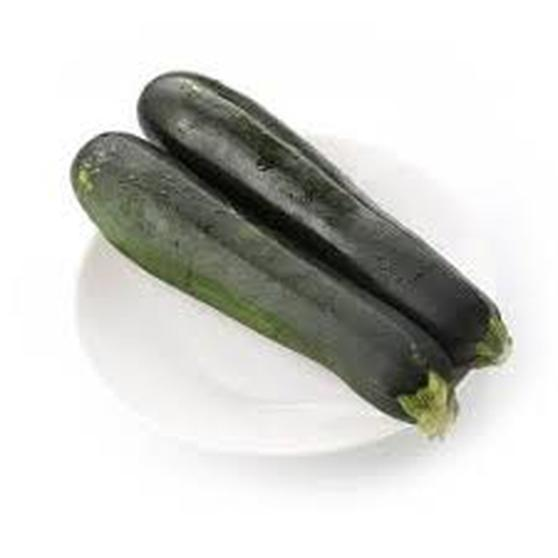zucchini: (62, 127, 465, 443)
